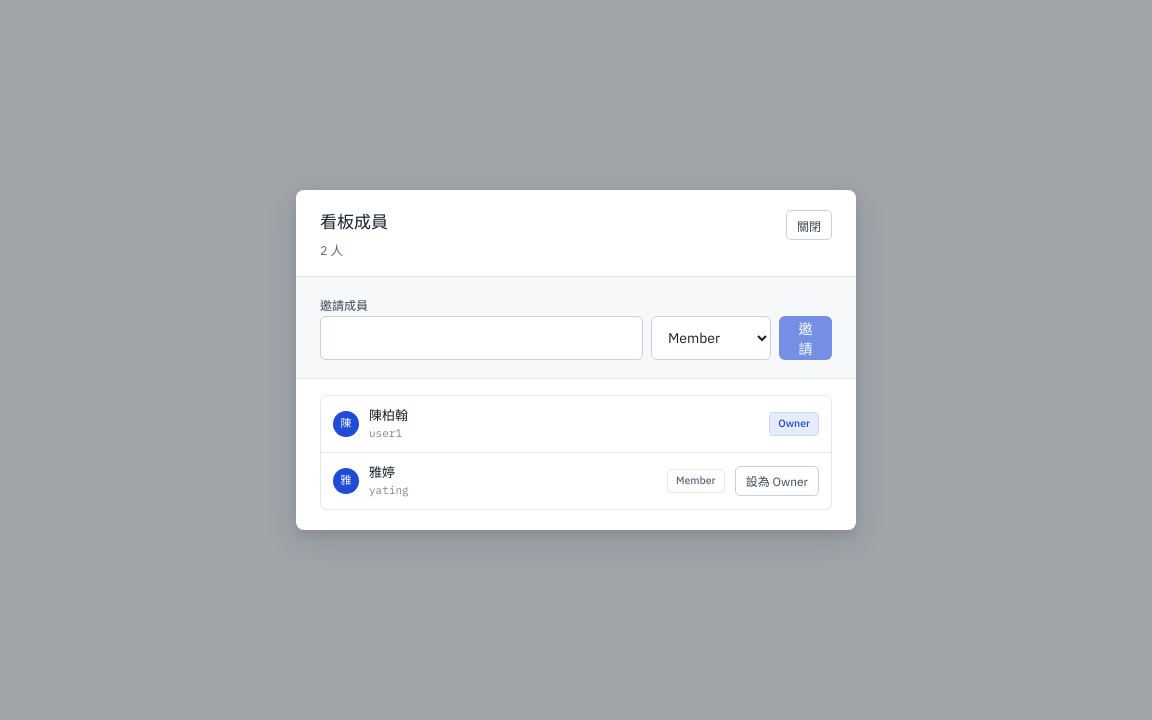
Scenario: s-member-management › 非 Owner 嘗試邀請成員時，顯示訊息，成員清單不變
Check: the text "2 人" is shown, box [320,242,343,258]
Type "jianhong" into the field labelled "邀請成員" at {"x": 481, "y": 338}, box [320,316,643,360]
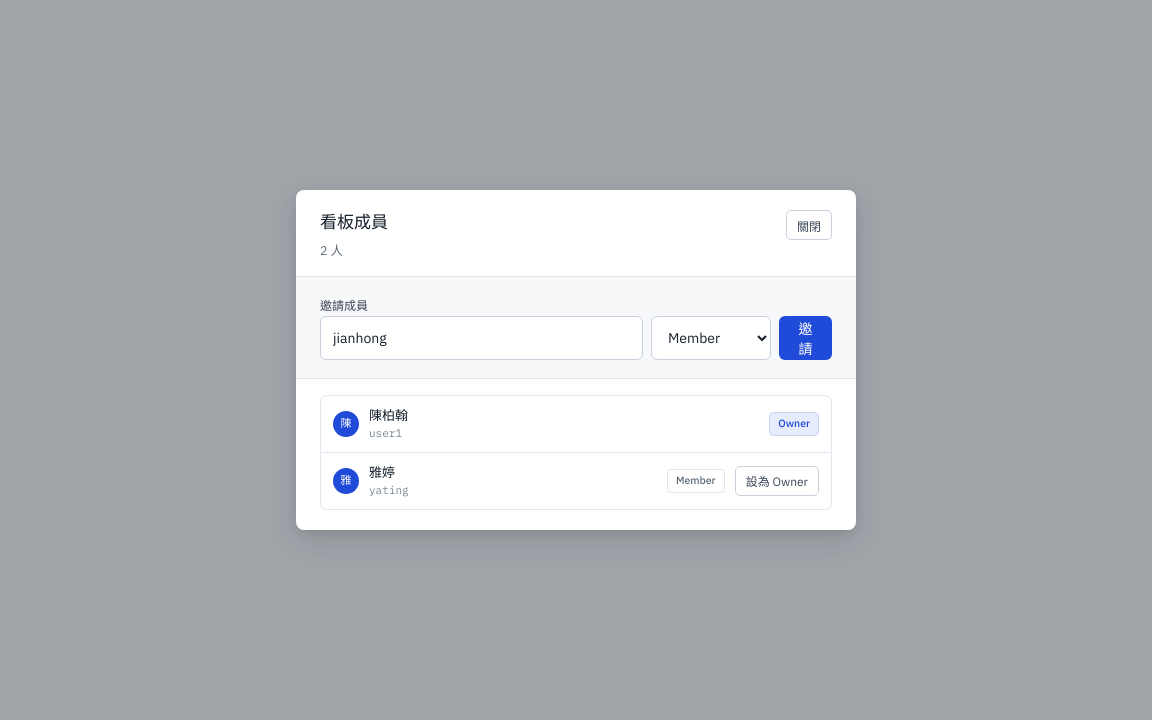
Click the button "邀請" at {"x": 805, "y": 338}, box [779,316,832,360]
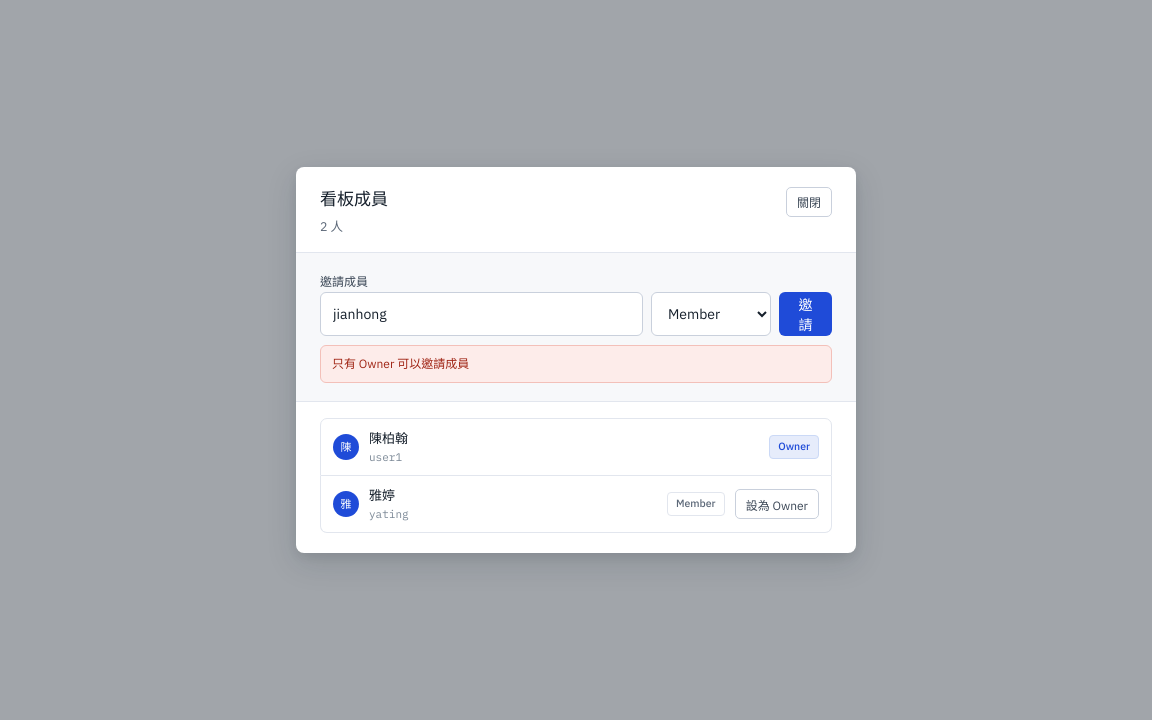
Check: the text "2 人" is shown, box [320,218,343,234]
Check: the text "只有 Owner 可以邀請成員" is shown, box [320,345,832,383]
